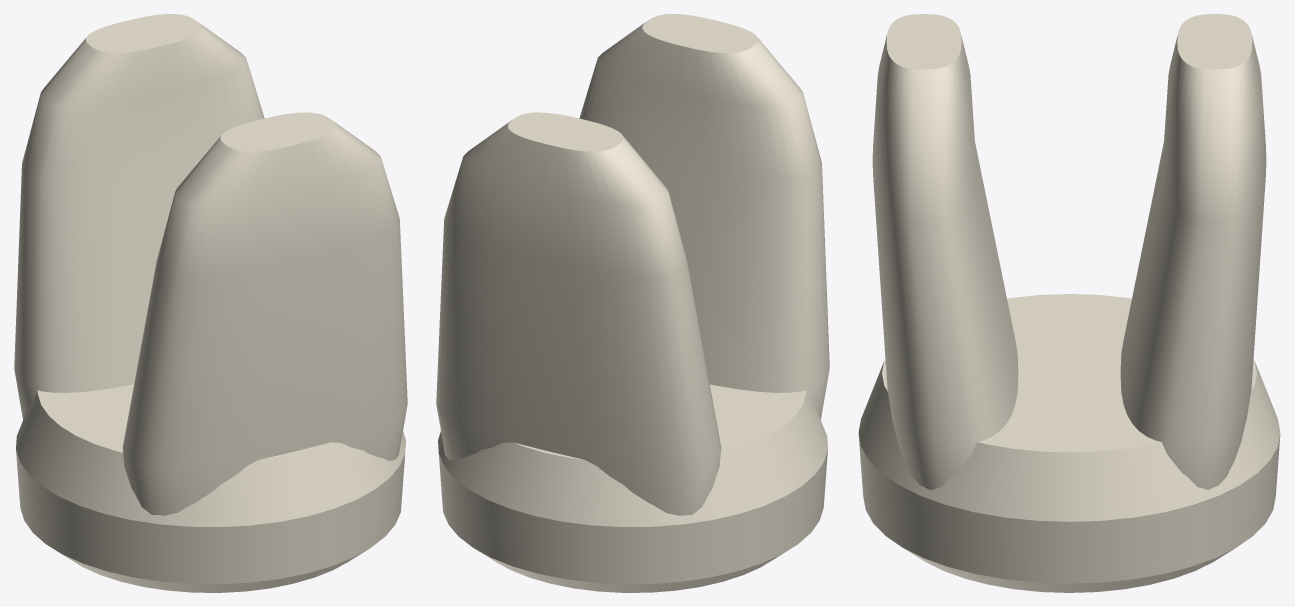
The picture shows the model from 3 angles, left to right: view 1: azimuth 30°, elevation 25°; view 2: azimuth 150°, elevation 25°; view 3: azimuth 270°, elevation 25°; orthographic projection. The views are drawn at different scales.
Parts seen in each view (by area): view 1: J4; view 2: J4; view 3: J4.
Part boxes in pixels (left/top/right/bottom): J4: left=14, top=14, right=407, bottom=592; J4: left=436, top=14, right=829, bottom=592; J4: left=858, top=14, right=1280, bottom=592.
Size of the model in its own units: 0.09 by 0.112 by 0.09.
